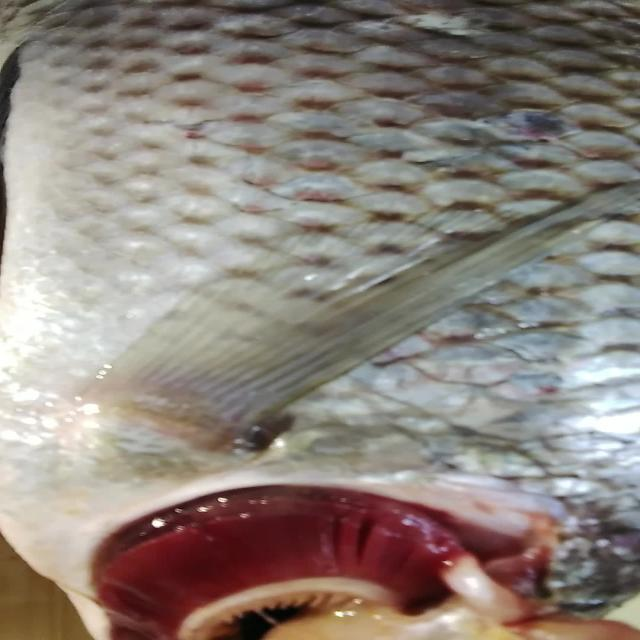Fresh: (53, 7, 640, 462), (73, 484, 531, 640)
